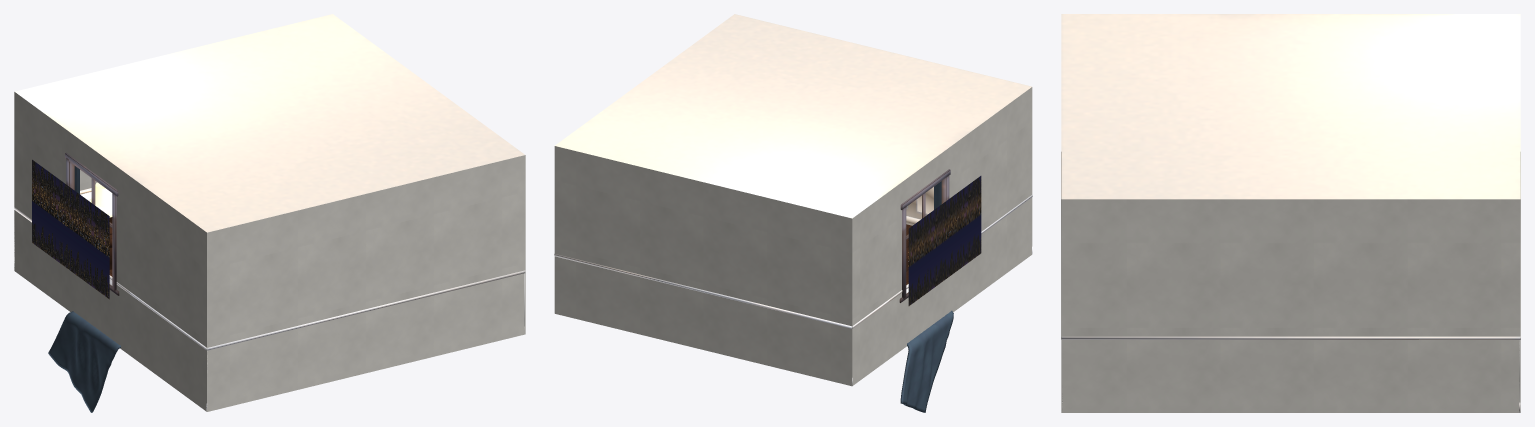
Rendered from apartment_bedroom.glb.
3 renders of one model, left to right at view 1: azimuth 30°, elevation 25°; view 2: azimuth 150°, elevation 25°; view 3: azimuth 270°, elevation 25°, orthographic. The views are drawn at different scales.
Visible parts, largest first — view 1: ceiling, wall_front, wall_left_a, wall_left_b, window_sky, duvet, wall_left_c, wall_left_d, chairrail_front, win_l; view 2: ceiling, wall_back, wall_left_a, wall_left_b, window_sky, duvet, wall_left_c, wall_left_d, chairrail_back, win_r; view 3: wall_right, ceiling, chairrail_right.
Boxes of the visible parts, bbox=[...] form: ceiling: bbox=[15, 14, 524, 232]; wall_front: bbox=[207, 155, 525, 411]; wall_left_a: bbox=[115, 166, 206, 411]; wall_left_b: bbox=[14, 92, 69, 310]; window_sky: bbox=[32, 159, 109, 299]; duvet: bbox=[48, 311, 120, 412]; wall_left_c: bbox=[69, 270, 115, 341]; wall_left_d: bbox=[69, 132, 115, 187]; chairrail_front: bbox=[207, 270, 525, 350]; win_l: bbox=[112, 193, 116, 290]; ceiling: bbox=[555, 14, 1031, 218]; wall_back: bbox=[554, 146, 852, 386]; wall_left_a: bbox=[946, 87, 1032, 313]; wall_left_b: bbox=[852, 181, 903, 385]; window_sky: bbox=[908, 176, 981, 305]; duvet: bbox=[900, 310, 953, 412]; wall_left_c: bbox=[903, 279, 946, 348]; wall_left_d: bbox=[903, 150, 946, 201]; chairrail_back: bbox=[554, 254, 851, 328]; win_r: bbox=[902, 207, 906, 298]; wall_right: bbox=[1061, 199, 1520, 412]; ceiling: bbox=[1061, 14, 1520, 199]; chairrail_right: bbox=[1061, 336, 1520, 339].
Bounding box in the file's own units: 5.55 × 4.13 × 5.46.
23 materials, 11 textured.
